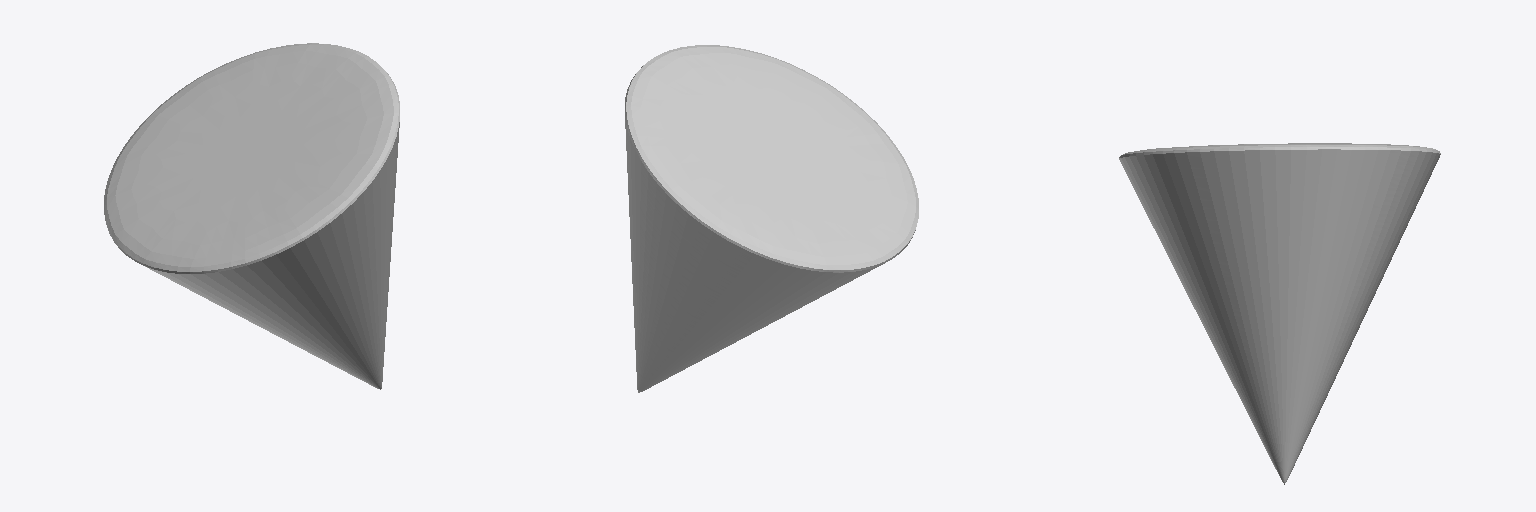
The model's file is SubTool-30-2234909.OBJ.
3 renders of one model, left to right at view 1: azimuth 30°, elevation 25°; view 2: azimuth 150°, elevation 25°; view 3: azimuth 270°, elevation 25°, orthographic.
Visible parts, largest first — view 1: Group16560; view 2: Group16560; view 3: Group16560.
Part boxes in pixels (x1,y1,x2,y2): Group16560: (104,43,399,389); Group16560: (625,45,918,392); Group16560: (1119,143,1440,484).
Bounding box in the file's own units: 9.08 × 11.3 × 9.9.